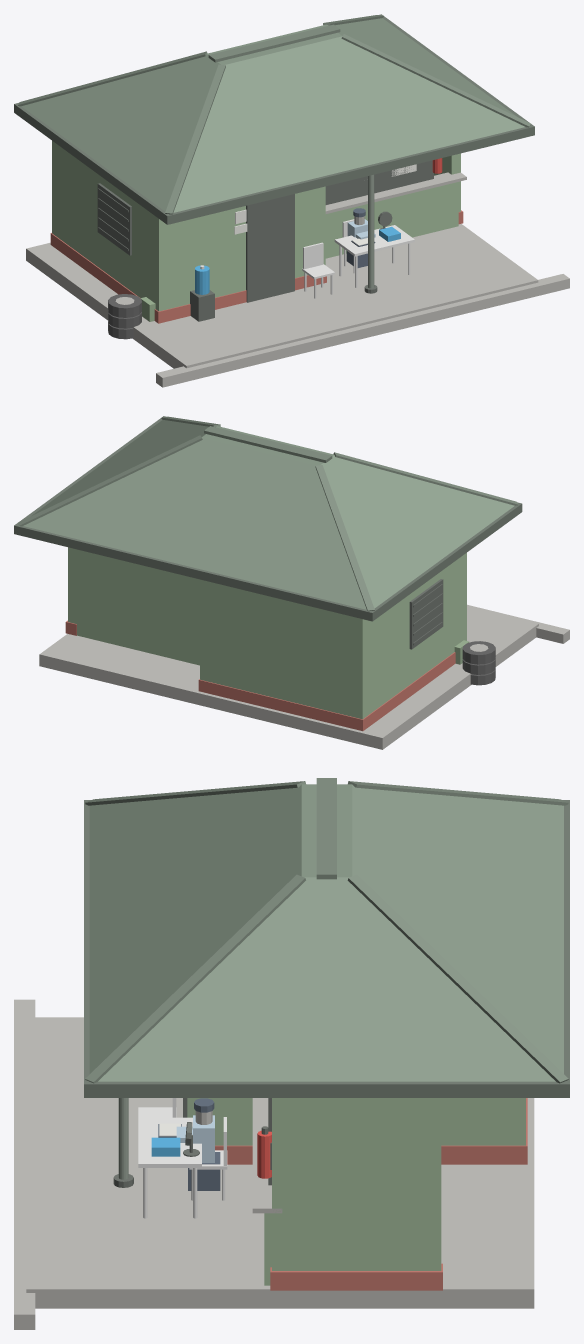
The model's file is guard_house.glb.
3 renders of one model, top to bottom at view 1: azimuth 30°, elevation 25°; view 2: azimuth 150°, elevation 25°; view 3: azimuth 270°, elevation 25°, orthographic. The views are drawn at different scales.
Parts seen in each view (by area): view 1: GH_Main_Roof, Mesh_Mat_GH_Concrete, Mesh_Mat_GH_Wall, Mesh_Mat_GH_DarkMetal, Mesh_Mat_GH_Fascia, Mesh_Mat_GH_RoofRidge, Mesh_Mat_GH_WhitePlastic, Mesh_Mat_GH_PlinthSkirt, Mesh_Mat_GH_TireBlack, GH_Porch_Post, Mesh_Mat_GH_WaterBlue, Mesh_Mat_GH_Poster; view 2: GH_Main_Roof, Mesh_Mat_GH_Wall, Mesh_Mat_GH_Concrete, Mesh_Mat_GH_Fascia, Mesh_Mat_GH_RoofRidge, Mesh_Mat_GH_PlinthSkirt, Mesh_Mat_GH_DarkMetal, Mesh_Mat_GH_TireBlack; view 3: GH_Main_Roof, Mesh_Mat_GH_Concrete, Mesh_Mat_GH_Wall, Mesh_Mat_GH_RoofRidge, Mesh_Mat_GH_Fascia, Mesh_Mat_GH_PlinthSkirt, Mesh_Mat_GH_WhitePlastic, Mesh_Mat_GH_GuardPants, Mesh_Mat_GH_DarkMetal, Mesh_Mat_GH_GuardUniform, GH_Porch_Post.
Part boxes in pixels (x1,y1,x2,y2): GH_Main_Roof: [21, 18, 524, 212]; Mesh_Mat_GH_Concrete: [26, 172, 569, 387]; Mesh_Mat_GH_Wall: [52, 141, 460, 311]; Mesh_Mat_GH_DarkMetal: [97, 160, 433, 321]; Mesh_Mat_GH_Fascia: [14, 14, 534, 224]; Mesh_Mat_GH_RoofRidge: [18, 15, 530, 214]; Mesh_Mat_GH_WhitePlastic: [200, 219, 414, 298]; Mesh_Mat_GH_PlinthSkirt: [50, 210, 463, 323]; Mesh_Mat_GH_TireBlack: [108, 294, 141, 339]; GH_Porch_Post: [368, 174, 374, 288]; Mesh_Mat_GH_WaterBlue: [195, 226, 400, 294]; Mesh_Mat_GH_Poster: [234, 164, 416, 245]; GH_Main_Roof: [23, 420, 514, 609]; Mesh_Mat_GH_Wall: [68, 547, 466, 719]; Mesh_Mat_GH_Concrete: [39, 604, 569, 749]; Mesh_Mat_GH_Fascia: [14, 416, 522, 621]; Mesh_Mat_GH_RoofRidge: [18, 416, 518, 611]; Mesh_Mat_GH_PlinthSkirt: [65, 620, 455, 731]; Mesh_Mat_GH_DarkMetal: [409, 579, 443, 649]; Mesh_Mat_GH_TireBlack: [462, 641, 495, 685]; GH_Main_Roof: [89, 784, 563, 1081]; Mesh_Mat_GH_Concrete: [14, 999, 534, 1329]; Mesh_Mat_GH_Wall: [187, 1098, 525, 1285]; Mesh_Mat_GH_RoofRidge: [85, 778, 568, 1083]; Mesh_Mat_GH_Fascia: [84, 800, 569, 1097]; Mesh_Mat_GH_PlinthSkirt: [215, 1098, 527, 1290]; Mesh_Mat_GH_WhitePlastic: [138, 1098, 227, 1218]; Mesh_Mat_GH_GuardPants: [158, 1098, 220, 1190]; Mesh_Mat_GH_DarkMetal: [113, 1098, 271, 1187]; Mesh_Mat_GH_GuardUniform: [176, 1115, 214, 1162]; GH_Porch_Post: [118, 1098, 128, 1179].
Size of the model in its own units: 8.8 by 4.58 by 6.57.
